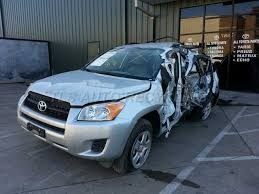Smashed: (156, 47, 215, 124)
